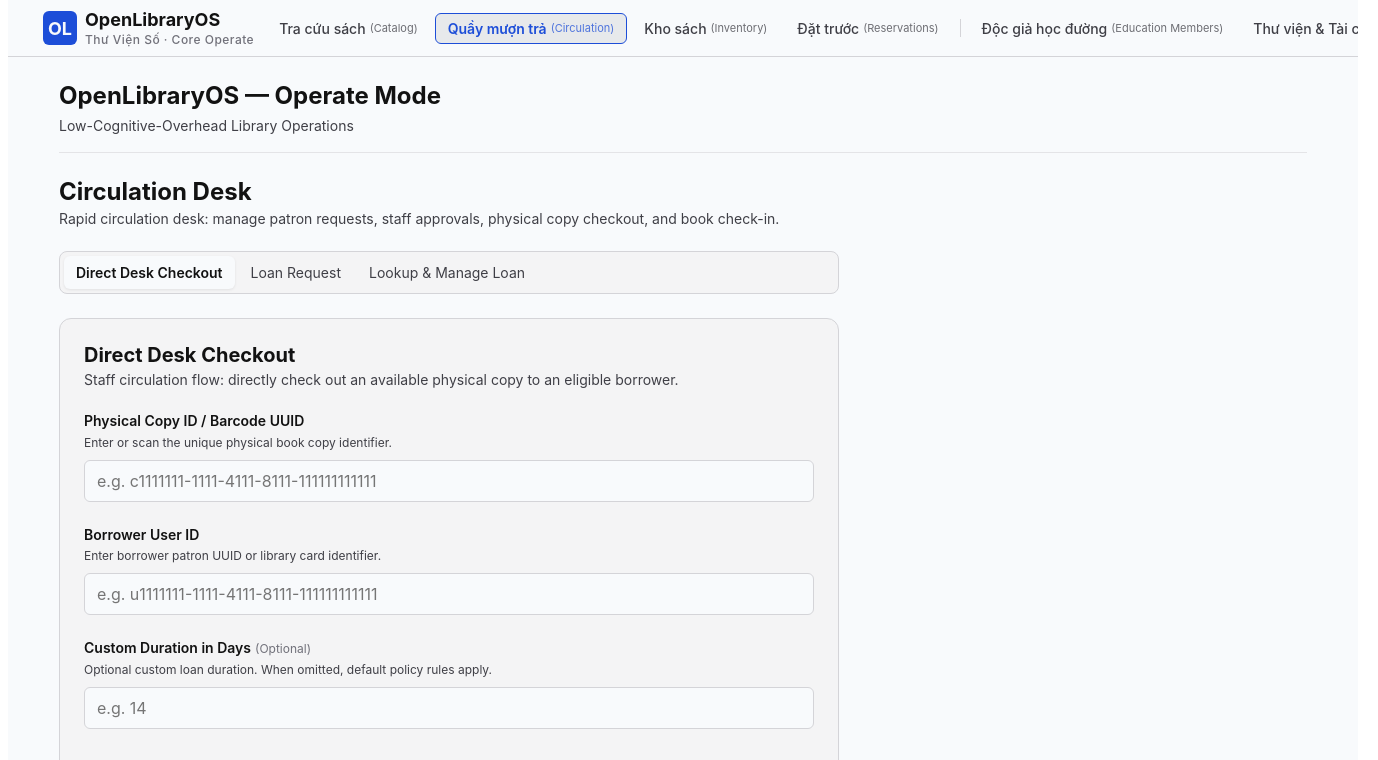
it: Inventory, Locations, Copies and Status-Management Workspace (FE-006) › Application Shell Navigation Integration › navigates to Inventory workspace when Inventory link is clicked in AppShell
# Click Inventory tab
Click the link "Kho sách (Inventory)": [706, 28] box [644, 20, 767, 36]
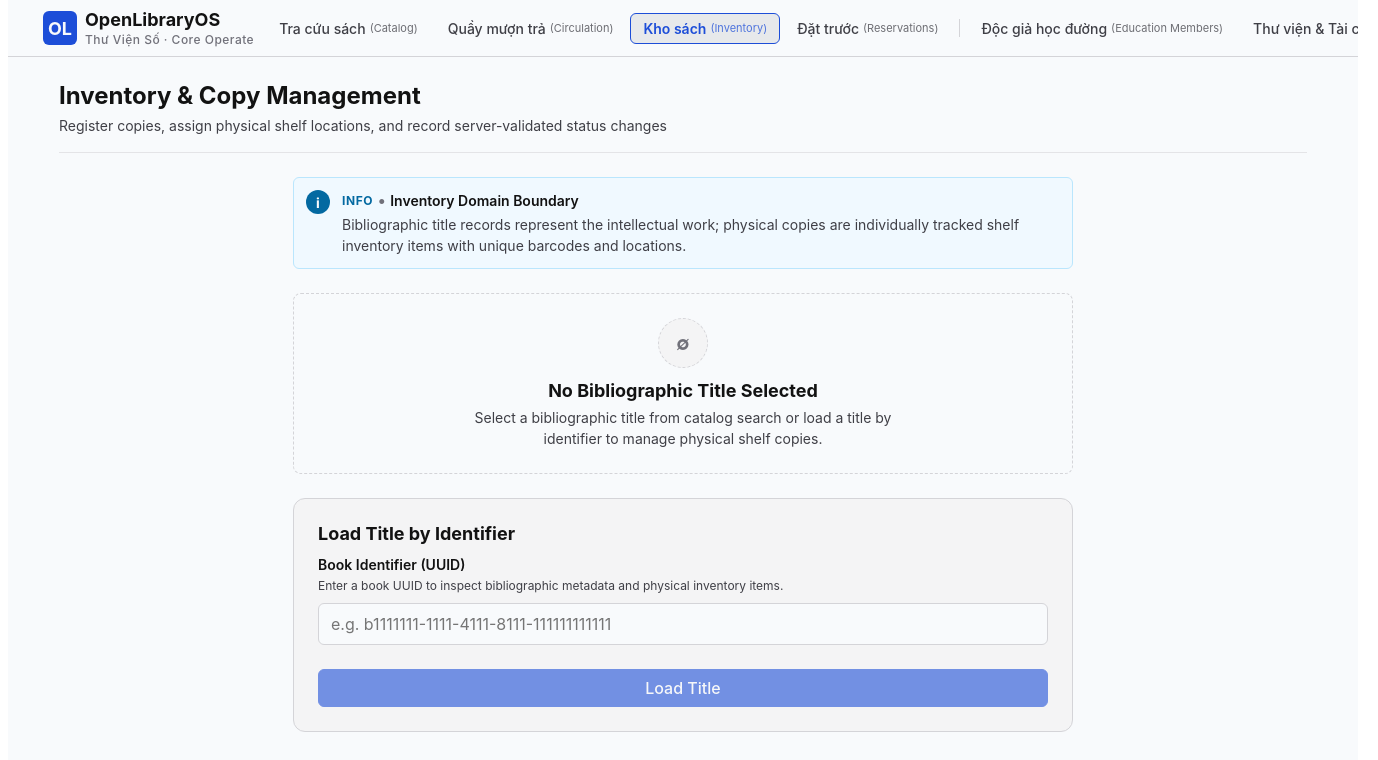
Now the heading "Inventory & Copy Management" is shown, box [59, 81, 421, 110]
Now the heading "No Bibliographic Title Selected" is shown, box [548, 380, 818, 401]
# Enter book UUID to load title
In the field labelled "Book Identifier (UUID)": [683, 624] box [318, 603, 1048, 645], type "b1111111-1111-4111-8111-111111111111"
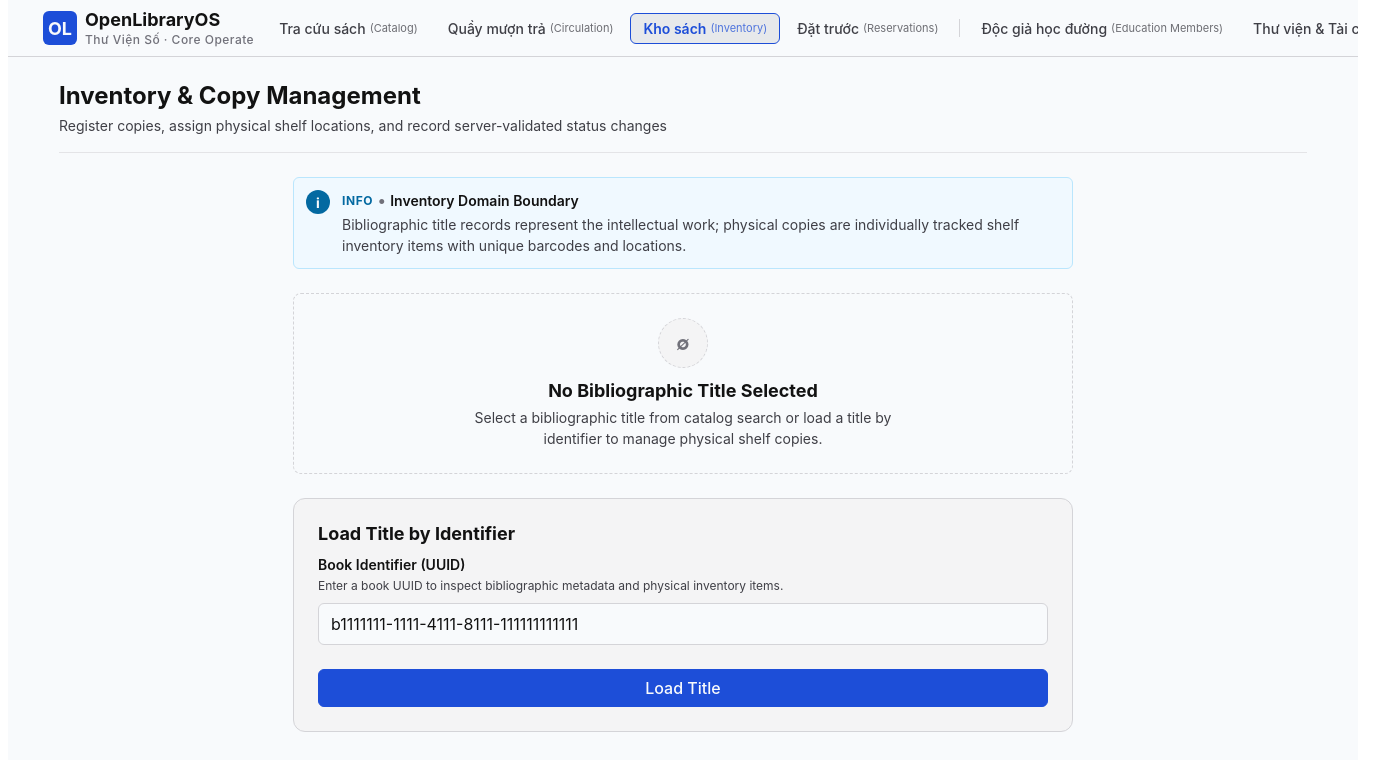
Click the button "Load Title": [683, 688] box [318, 669, 1048, 707]
(page scrolled)
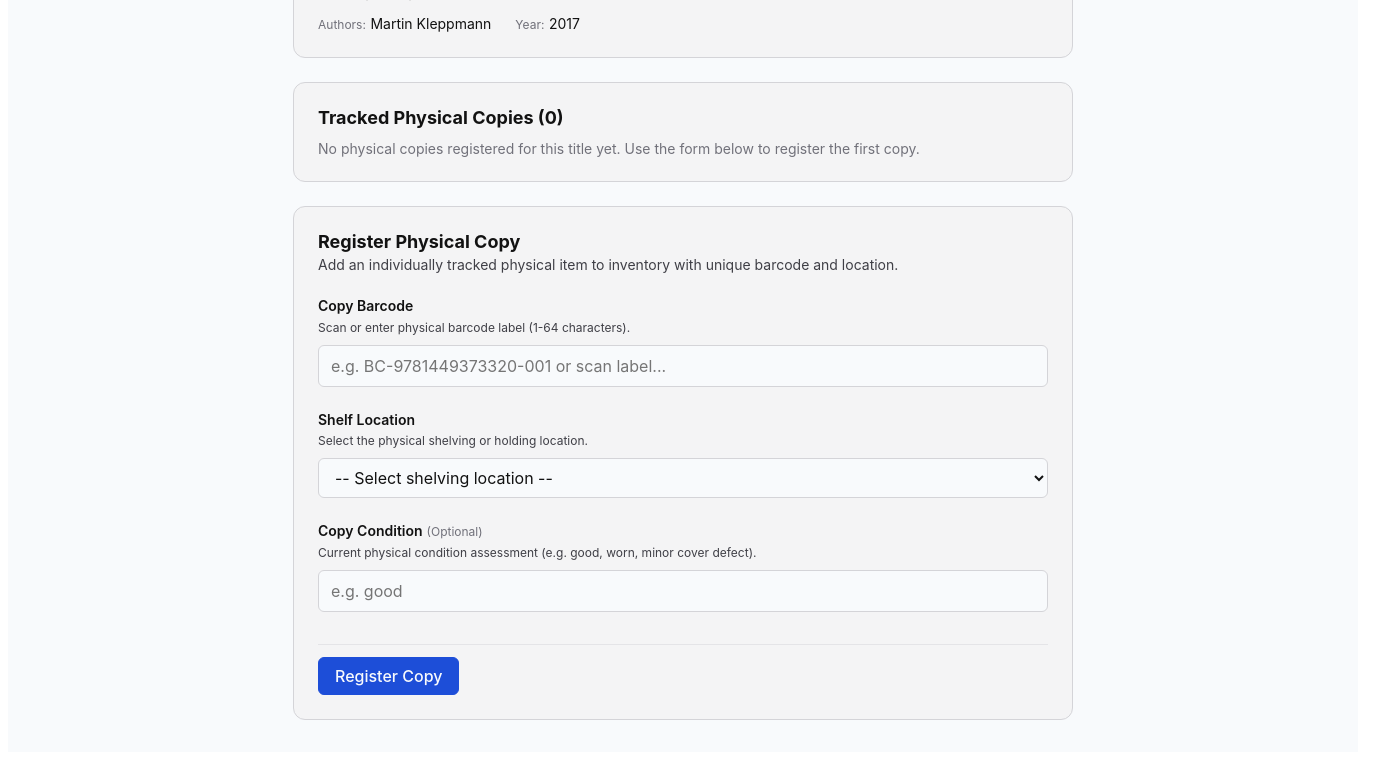
Now the field labelled "Copy Barcode" is shown, box [318, 344, 1048, 386]
